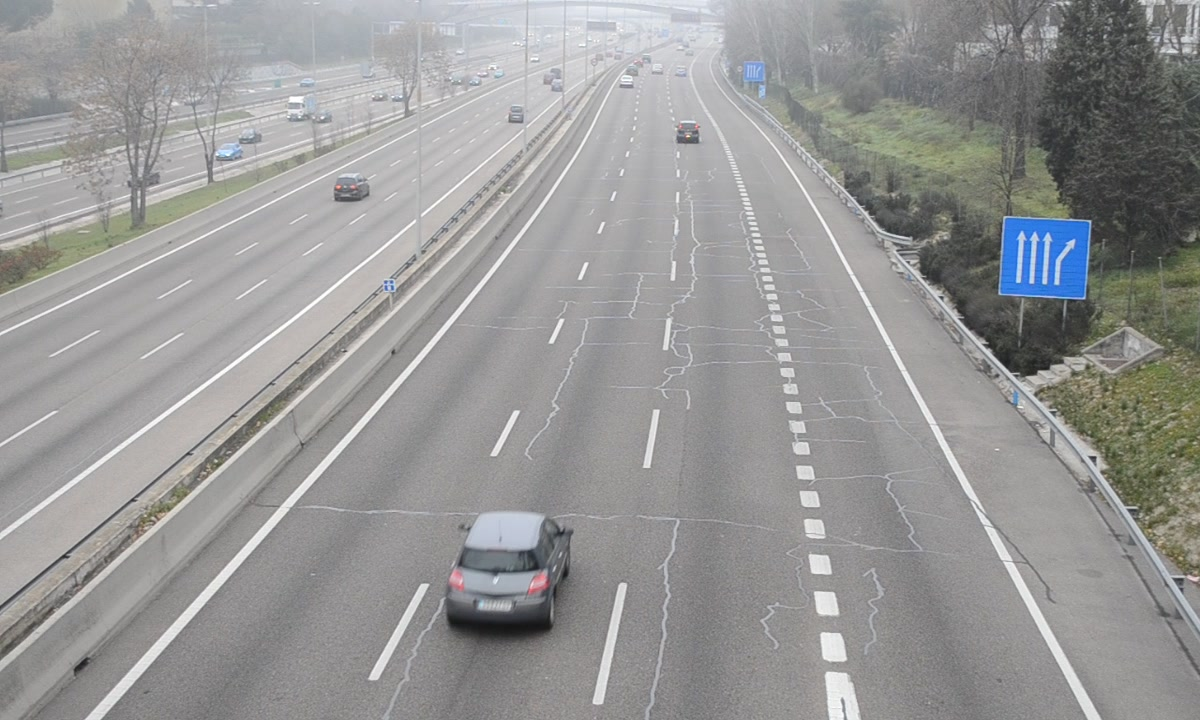car: (445, 510, 567, 634), (676, 121, 699, 143)
